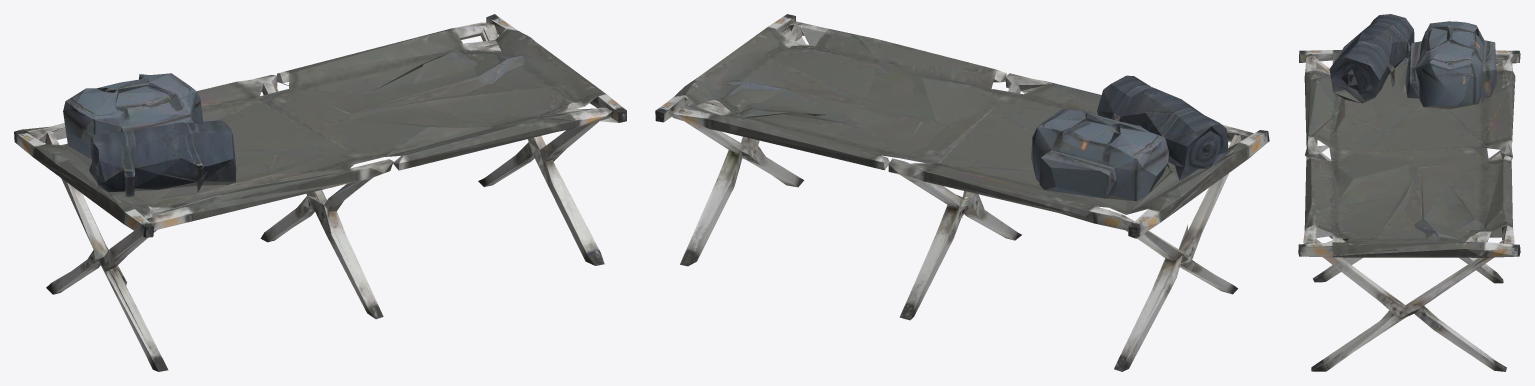
The model's file is cot.glb.
The picture shows the model from 3 angles, left to right: view 1: azimuth 30°, elevation 25°; view 2: azimuth 150°, elevation 25°; view 3: azimuth 270°, elevation 25°; orthographic projection. The views are drawn at different scales.
Parts seen in each view (by area): view 1: Mesh_0; view 2: Mesh_0; view 3: Mesh_0.
Boxes of the visible parts, x1=… form: Mesh_0: x1=14, y1=14, x2=626, y2=371; Mesh_0: x1=655, y1=14, x2=1269, y2=371; Mesh_0: x1=1298, y1=14, x2=1520, y2=371.
Bounding box in the file's own units: 2 × 0.8658 × 0.9425.
1 material, 1 textured.
